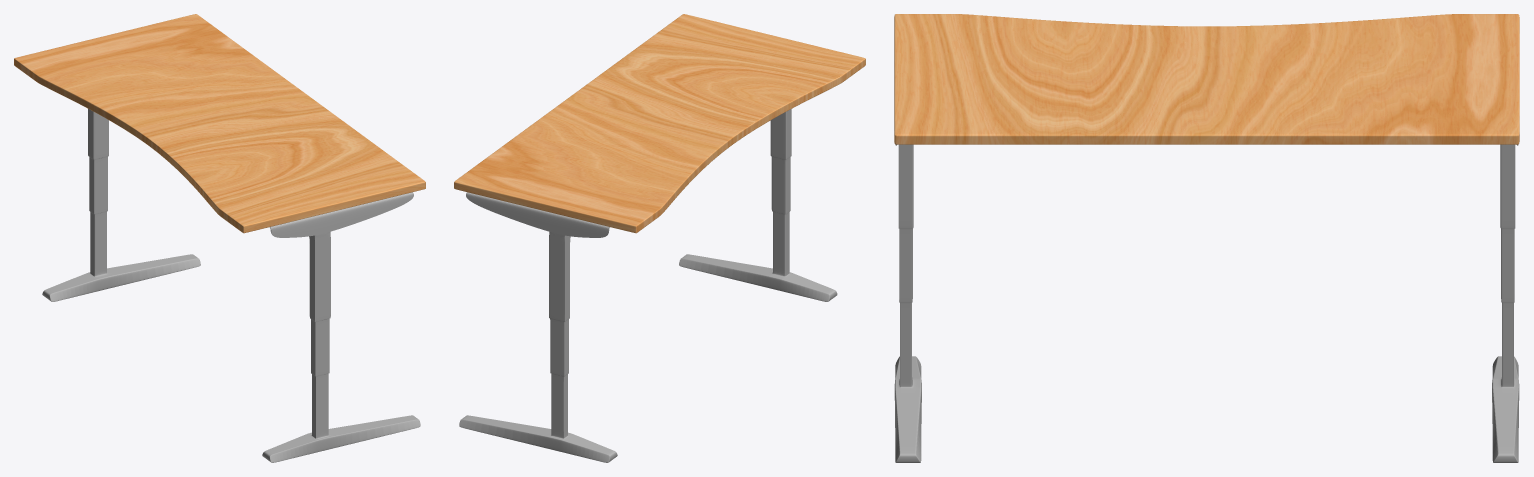
The model's file is standing_desk_1.glb.
The picture shows the model from 3 angles, left to right: view 1: azimuth 30°, elevation 25°; view 2: azimuth 150°, elevation 25°; view 3: azimuth 270°, elevation 25°; orthographic projection. The views are drawn at different scales.
Parts seen in each view (by area): view 1: Plane; view 2: Plane; view 3: Plane.
Boxes of the visible parts, <box> form: Plane: <box>14,14,425,462</box>; Plane: <box>454,14,865,462</box>; Plane: <box>894,14,1519,462</box>.
Bounding box in the file's own units: 23.75 × 30.32 × 51.68.
Materials: 3 (1 with a texture image).
